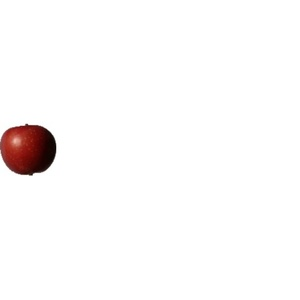maçã braeburn: (2, 119, 57, 177)
